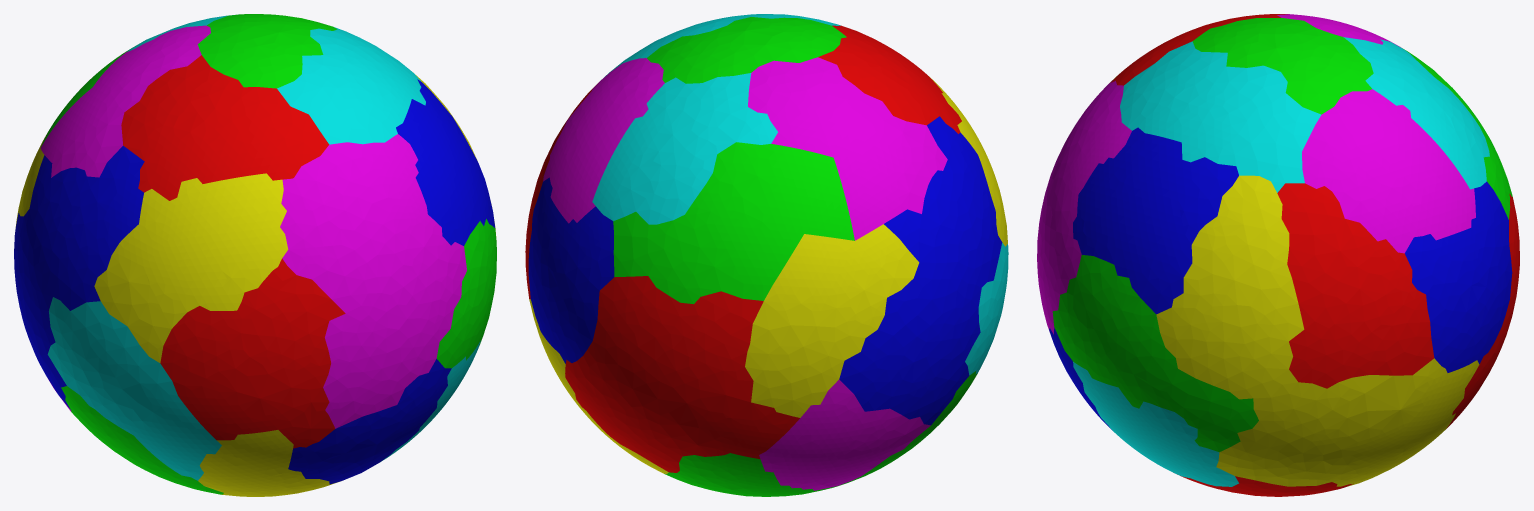
The model's file is SphereH_1.fbx.
The picture shows the model from 3 angles, left to right: view 1: azimuth 30°, elevation 25°; view 2: azimuth 150°, elevation 25°; view 3: azimuth 270°, elevation 25°; orthographic projection.
Bounding box in the file's own units: 2 × 2 × 2.
